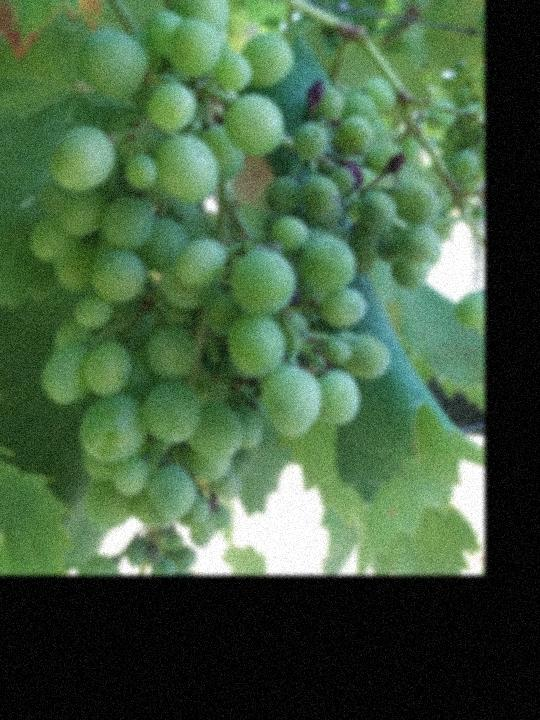grape: (28, 0, 449, 535)
